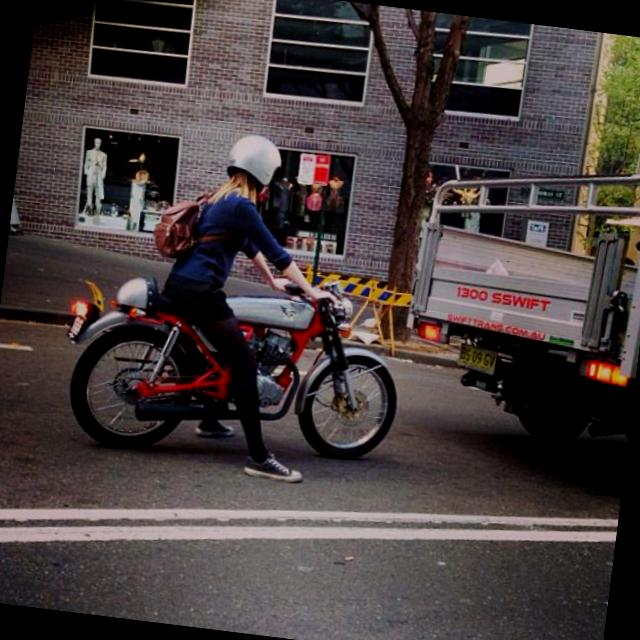Vehicle: (44, 259, 422, 490), (393, 145, 640, 450)
